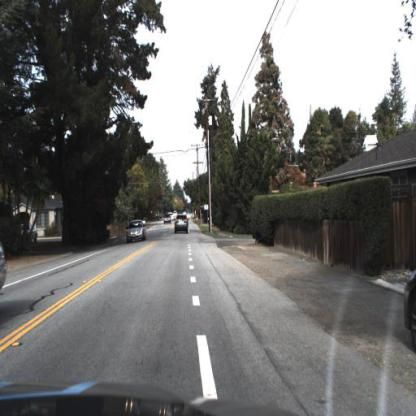car: (20, 221, 41, 245), (126, 219, 147, 243), (174, 213, 191, 237)
